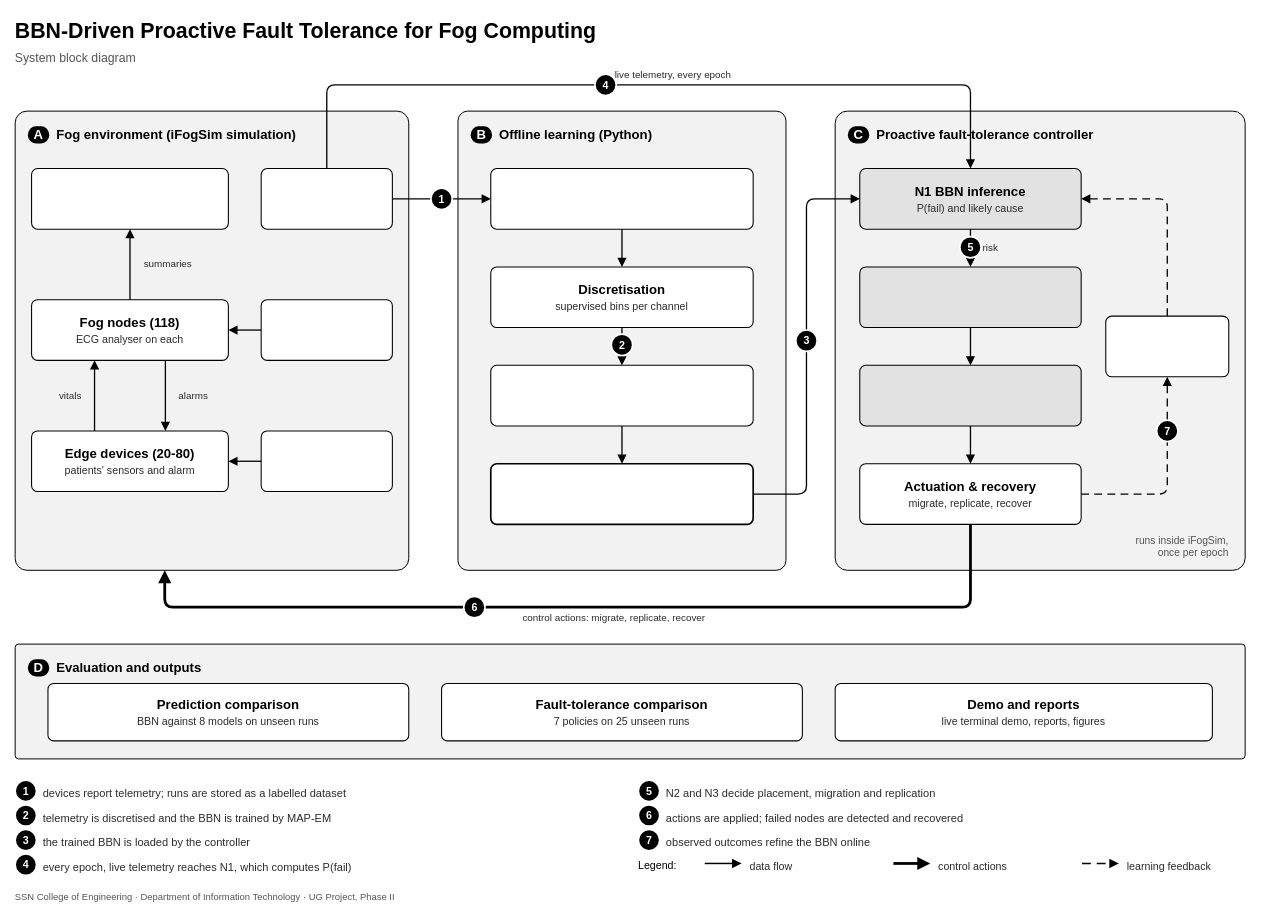
This 1280x918 diagram has some shape labels left out. The shapes that lost their labels are listed below. From the top down, each one's box as (x1, y1, x2, y2) in pixels, then its label:
(31, 168, 229, 229): Cloud datacentre archival storage
(260, 168, 393, 229): Telemetry agents on every node, 13 channels / epoch
(490, 168, 753, 229): Telemetry dataset 31 labelled simulation runs
(859, 266, 1081, 328): N2 Placement & migration move users before failure
(260, 299, 393, 361): Fault injector wear-out and failures
(1105, 315, 1229, 377): Online learning refines the BBN
(490, 364, 753, 426): MAP-EM training learns the BBN's probability tables
(859, 364, 1081, 426): N3 Selective replication backup sized to the risk
(260, 430, 393, 492): Mobility Melbourne CBD traces
(490, 462, 754, 525): Trained BBN bbn_trained.json
